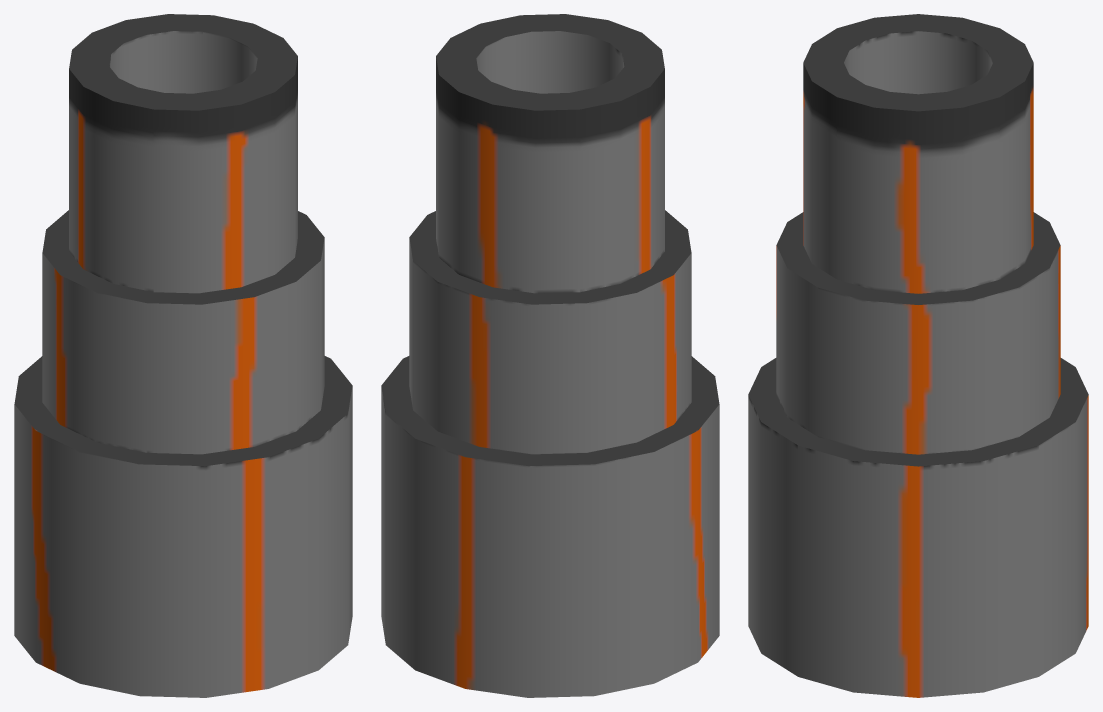
Rendered from Morter.fbx.
3 renders of one model, left to right at view 1: azimuth 30°, elevation 25°; view 2: azimuth 150°, elevation 25°; view 3: azimuth 270°, elevation 25°, orthographic.
Parts seen in each view (by area): view 1: Mortar; view 2: Mortar; view 3: Mortar.
Boxes of the visible parts, left/top/right/bottom form: Mortar: left=14, top=14, right=352, bottom=697; Mortar: left=381, top=14, right=719, bottom=697; Mortar: left=748, top=14, right=1088, bottom=697.
Bounding box in the file's own units: 200 × 365 × 200.
